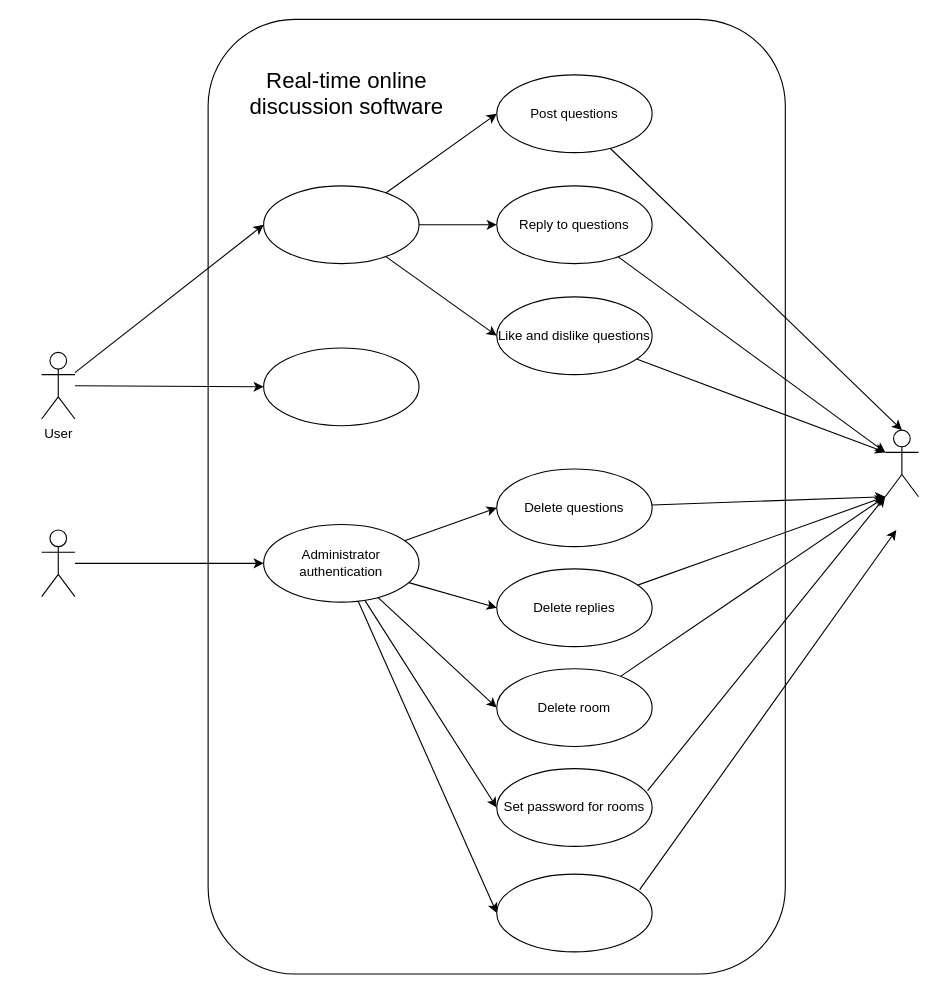
This 947x993 diagram has some shape labels left out. The box of each missing label's shape, as (x1, y1, x2, y2) in pixels:
Administrator: (41, 529, 75, 597)
Firebase: (884, 429, 919, 497)
Join discussion room: (263, 185, 419, 264)
Publish fixed post: (496, 873, 652, 952)
Search questions globally: (263, 347, 419, 426)
